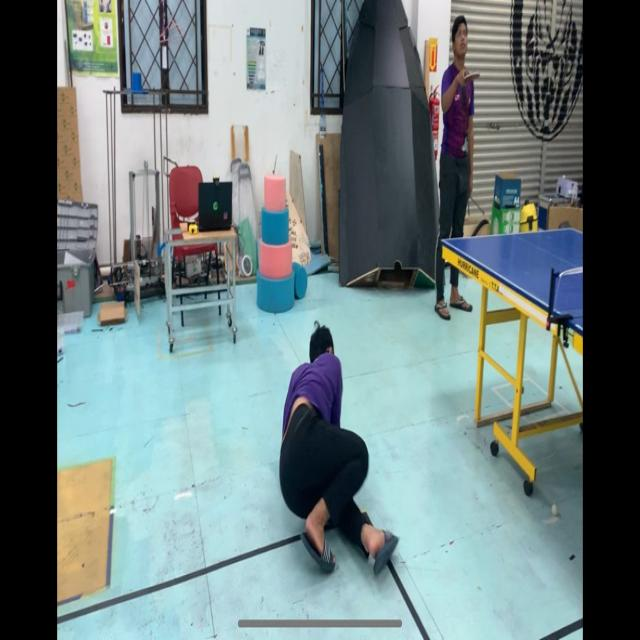Fall-Detected: (275, 311, 398, 582)
